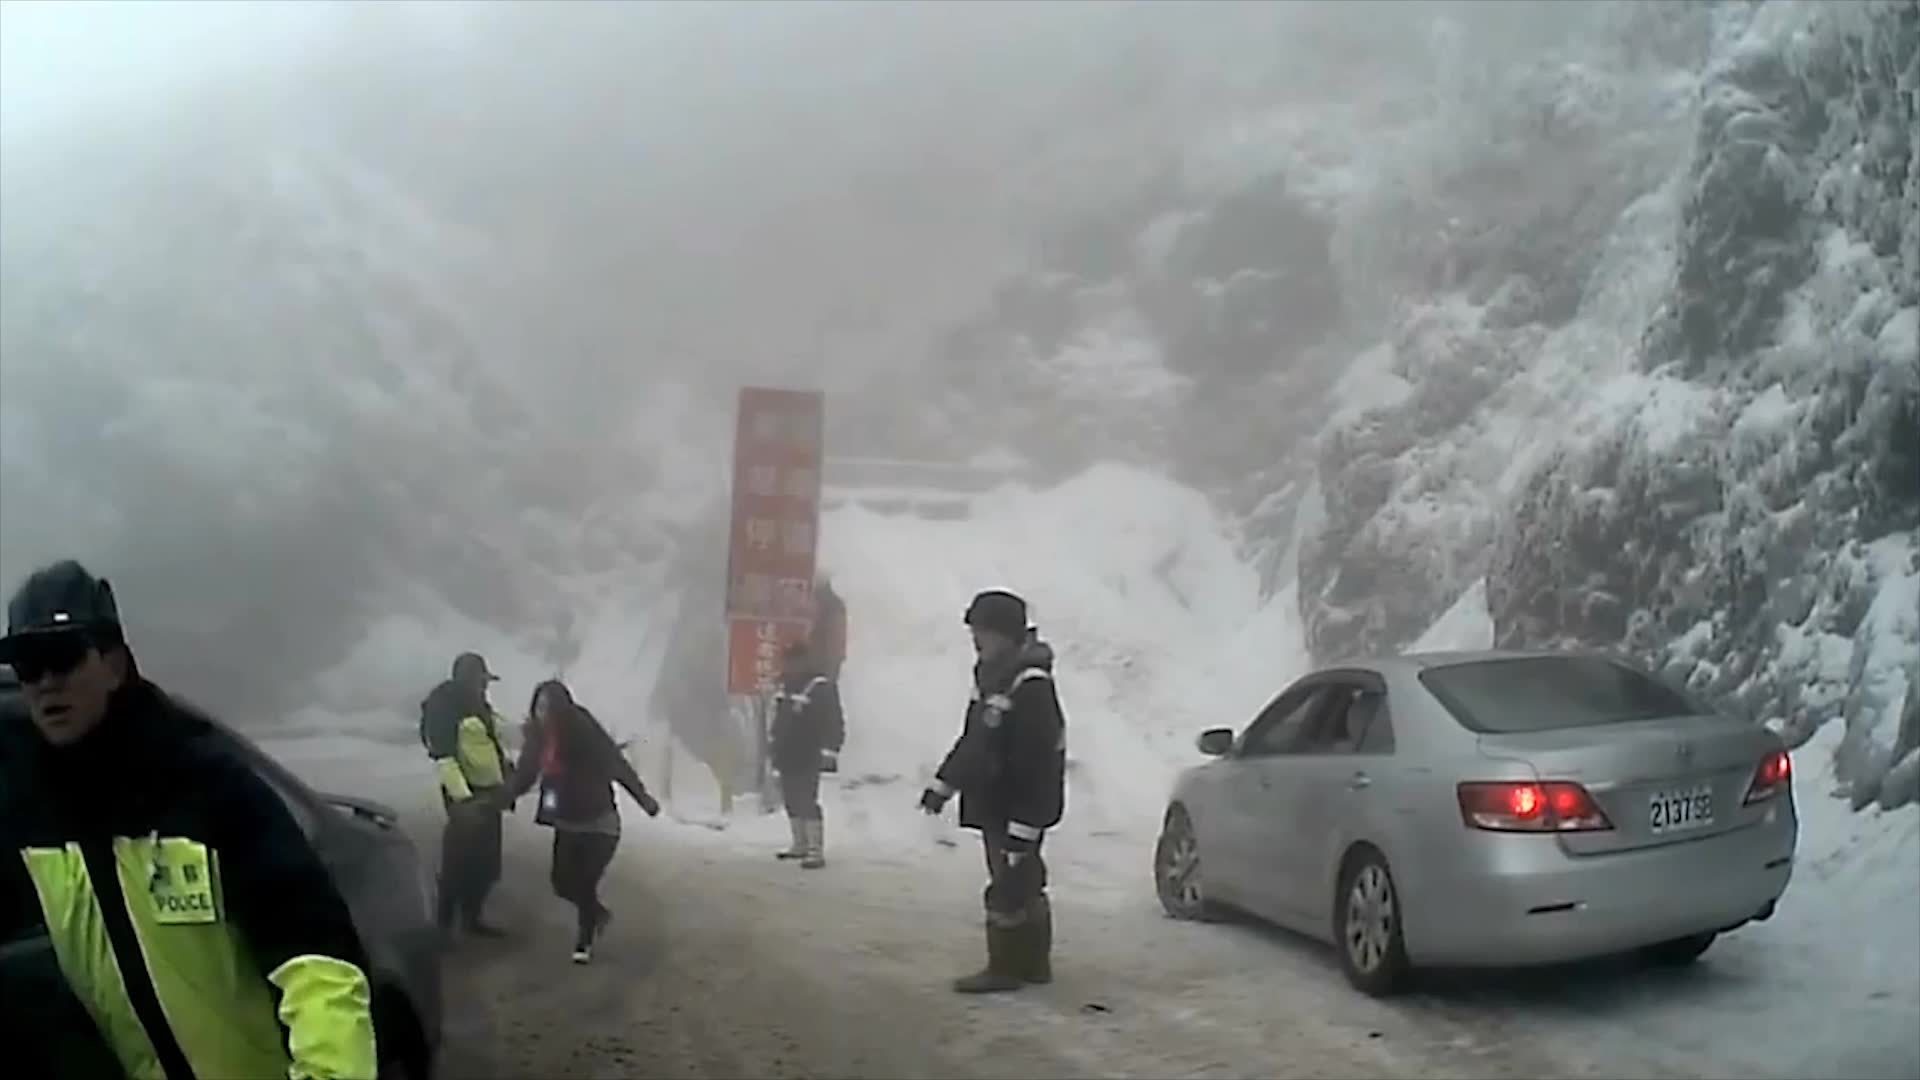pedestrian: (1, 561, 391, 1080), (914, 587, 1067, 996), (496, 678, 659, 961), (413, 653, 524, 938), (764, 637, 845, 869), (788, 564, 851, 745)
vehicle: (1148, 647, 1799, 997), (0, 664, 443, 1079)
